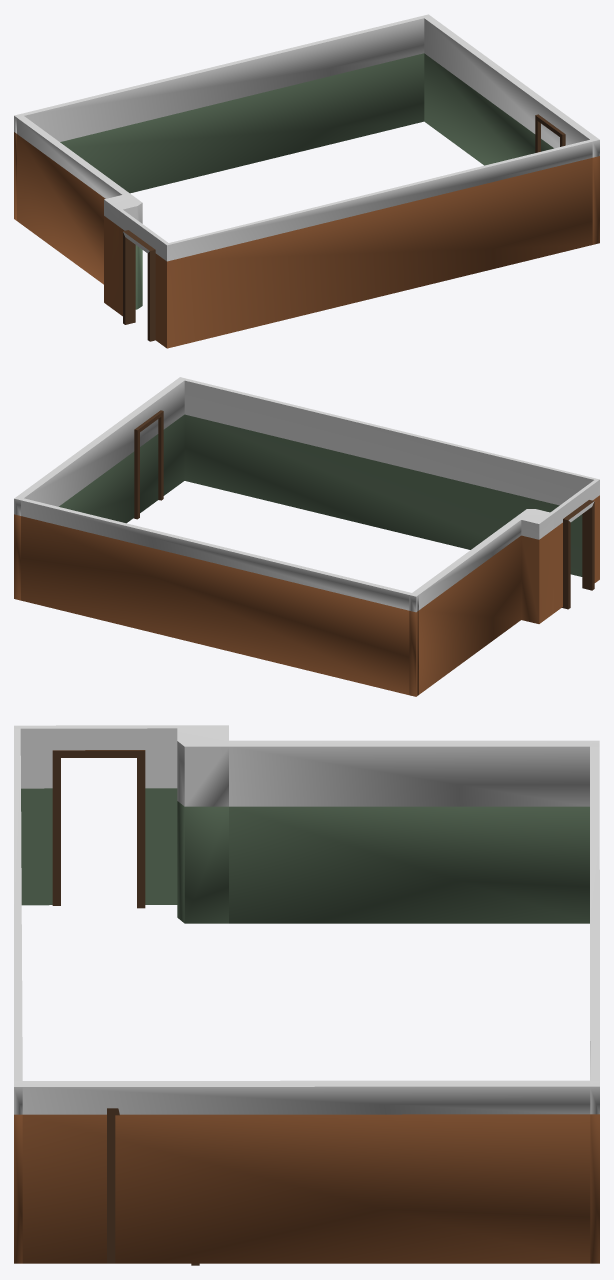
Rendered from soviet office v1.fbx.
3 renders of one model, top to bottom at view 1: azimuth 30°, elevation 25°; view 2: azimuth 150°, elevation 25°; view 3: azimuth 270°, elevation 25°, orthographic. The views are drawn at different scales.
Parts seen in each view (by area): view 1: Desk.001; view 2: Desk.001; view 3: Desk.001.
Boxes of the visible parts, <box> form: Desk.001: <box>14,14,599,348</box>; Desk.001: <box>14,377,599,696</box>; Desk.001: <box>14,725,599,1265</box>.
Bounding box in the file's own units: 2184 × 498 × 1477.
